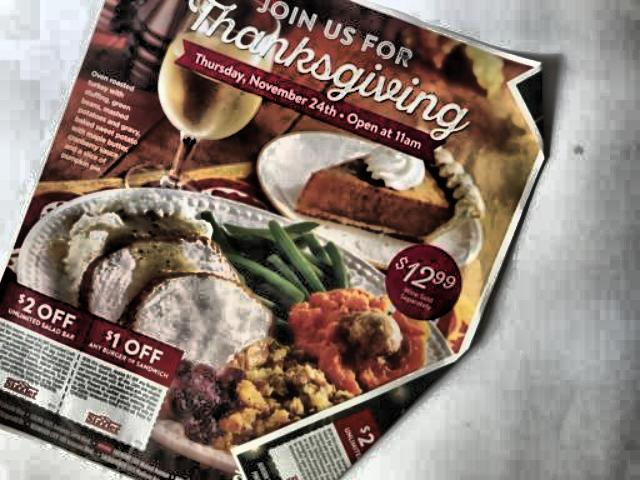Paper: (0, 0, 545, 480)
